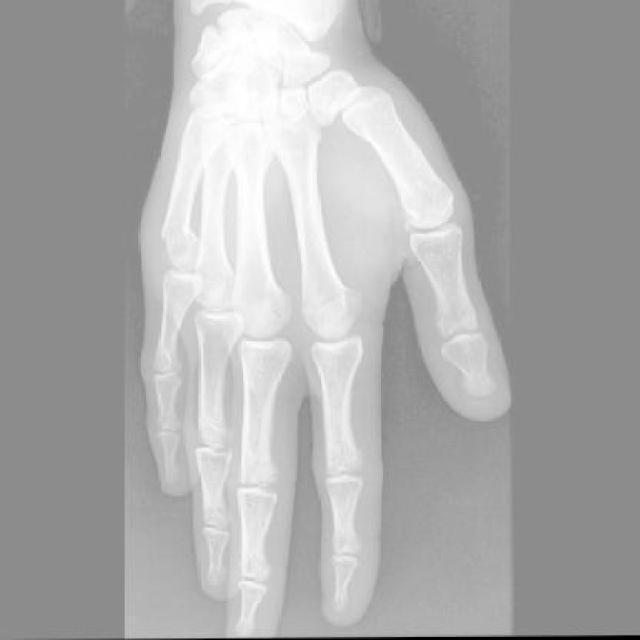Fracture: (161, 220, 197, 260)
